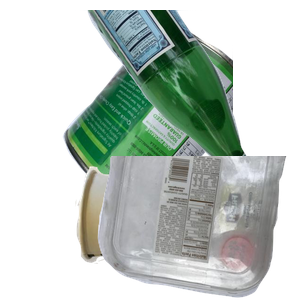glass: (75, 10, 300, 190)
metal: (60, 23, 300, 203)
plastic: (95, 156, 300, 300)
trash: (73, 164, 278, 300)
